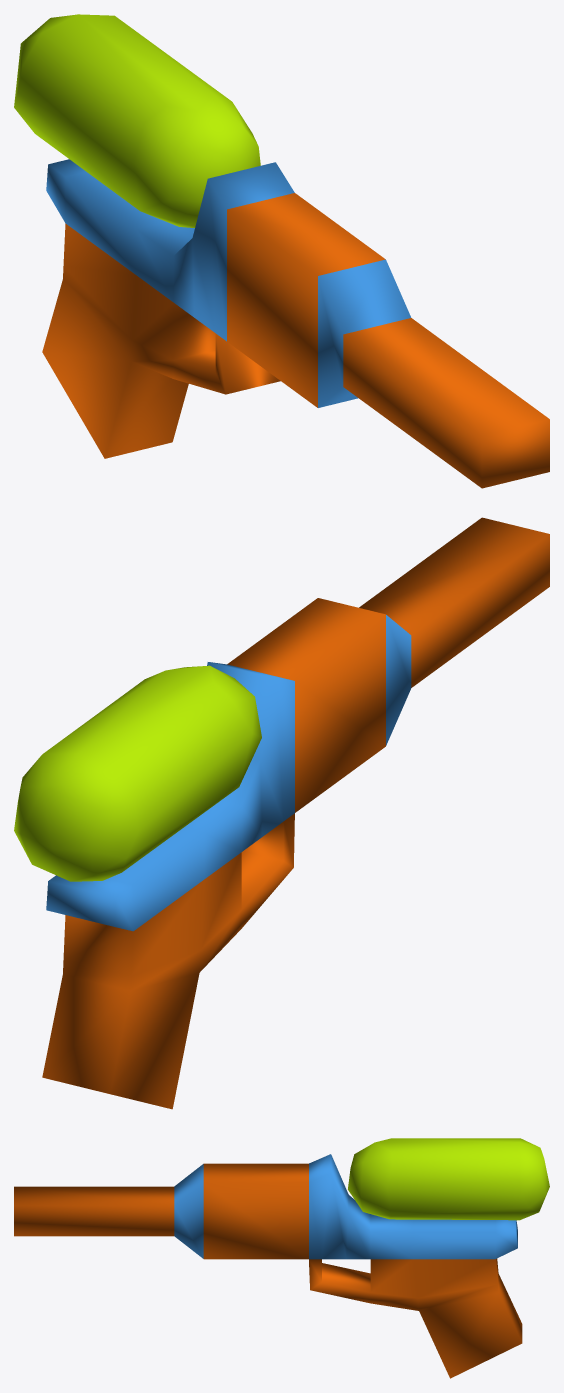
The model's file is watergun.fbx.
3 views of the same model, one above another, from view 1: azimuth 30°, elevation 25°; view 2: azimuth 150°, elevation 25°; view 3: azimuth 270°, elevation 25° (orthographic). The views are drawn at different scales.
Parts seen in each view (by area): view 1: watergun; view 2: watergun; view 3: watergun.
Part boxes in pixels (x1,y1,x2,y2): watergun: (14, 14, 549, 488); watergun: (14, 517, 549, 1109); watergun: (14, 1138, 549, 1378).
Bounding box in the file's own units: 39.34 × 122 × 262.
